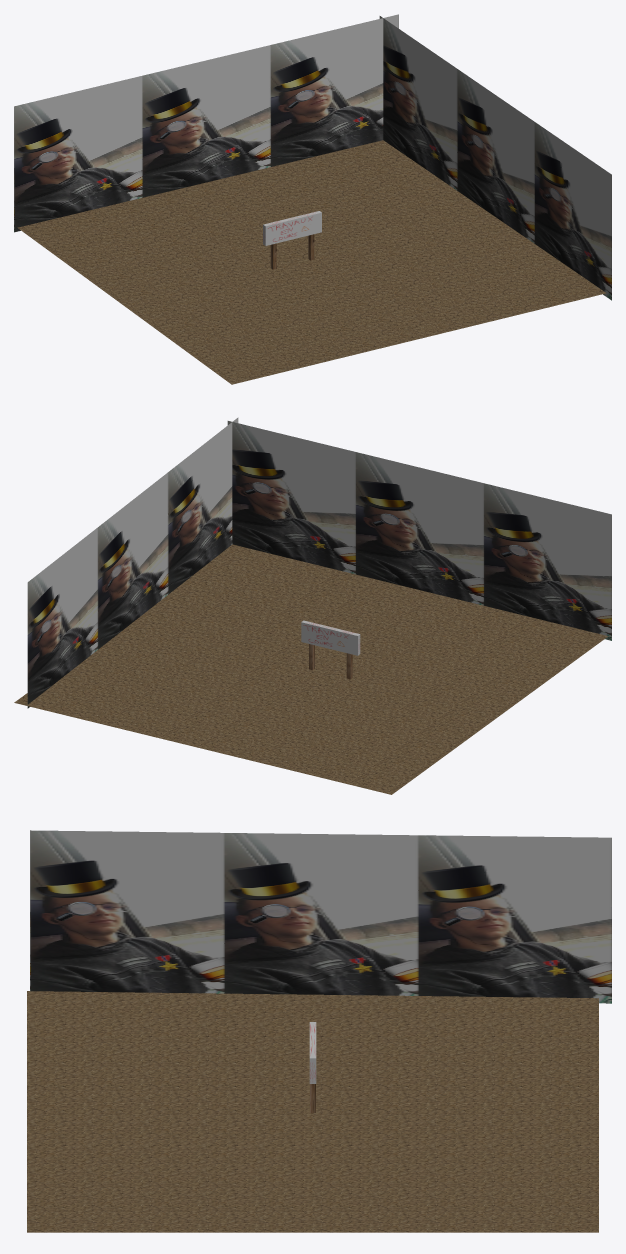
File: pikaboo.gltf
3 views of the same model, one above another, from view 1: azimuth 30°, elevation 25°; view 2: azimuth 150°, elevation 25°; view 3: azimuth 270°, elevation 25° (orthographic). The views are drawn at different scales.
Visible parts, largest first — view 1: New Ground, Wall2, Wall3, panneau Cloned; view 2: New Ground, Wall1, Wall3, panneau; view 3: New Ground, Wall4.
Boxes of the visible parts, x1=… form: New Ground: x1=17, y1=140, x2=606, y2=384; Wall2: x1=14, y1=14, x2=398, y2=232; Wall3: x1=379, y1=16, x2=611, y2=300; panneau Cloned: x1=264, y1=211, x2=321, y2=245; New Ground: x1=14, y1=544, x2=608, y2=794; Wall1: x1=227, y1=421, x2=611, y2=640; Wall3: x1=27, y1=417, x2=238, y2=708; panneau: x1=301, y1=621, x2=358, y2=655; New Ground: x1=27, y1=991, x2=598, y2=1232; Wall4: x1=30, y1=830, x2=611, y2=1003.
Size of what is drawn, in the model's own units: 102 by 38.5 by 105.
Materials: 4 (4 with a texture image).
